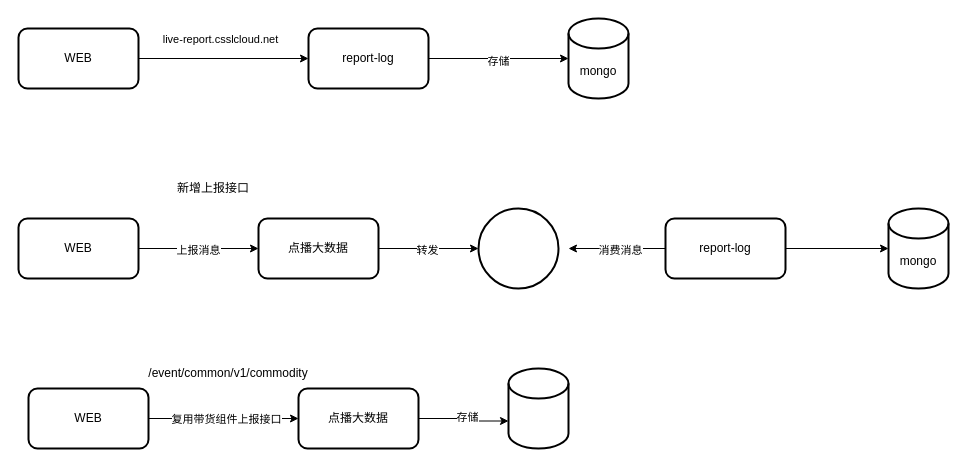
Image size: 966x466. Some labels were removed from this diagram. The shapes that lost their labels are listed below. From the top down, each one's centre as x and y in pixels, then its label:
[518,248]: kafka
[538,408]: ES
